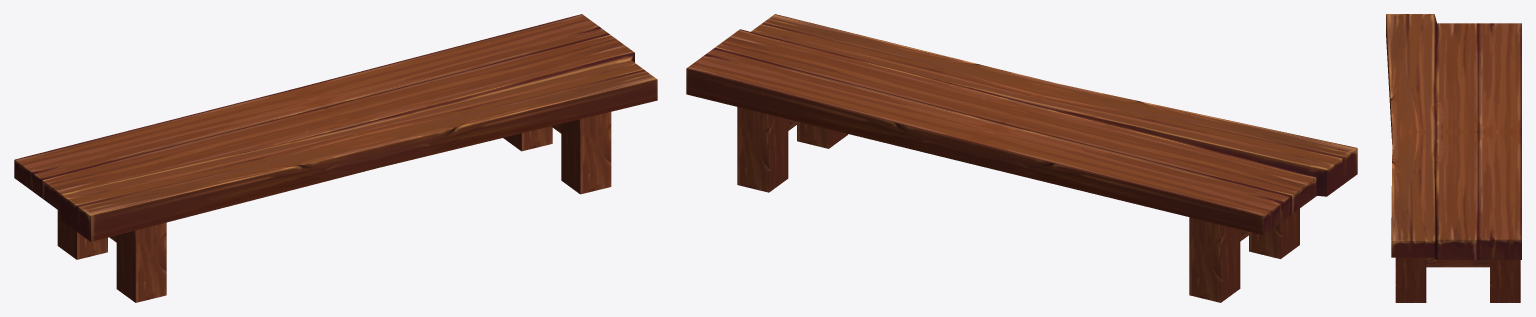
The model's file is YiZi06.FBX.
The picture shows the model from 3 angles, left to right: view 1: azimuth 30°, elevation 25°; view 2: azimuth 150°, elevation 25°; view 3: azimuth 270°, elevation 25°; orthographic projection. The views are drawn at different scales.
Parts seen in each view (by area): view 1: YiZi06; view 2: YiZi06; view 3: YiZi06.
Boxes of the visible parts, x1,y1,x2,y2 form: YiZi06: (14,14,657,302); YiZi06: (686,14,1357,302); YiZi06: (1386,14,1521,302).
Size of the model in its own units: 127 by 21.82 by 32.41.
